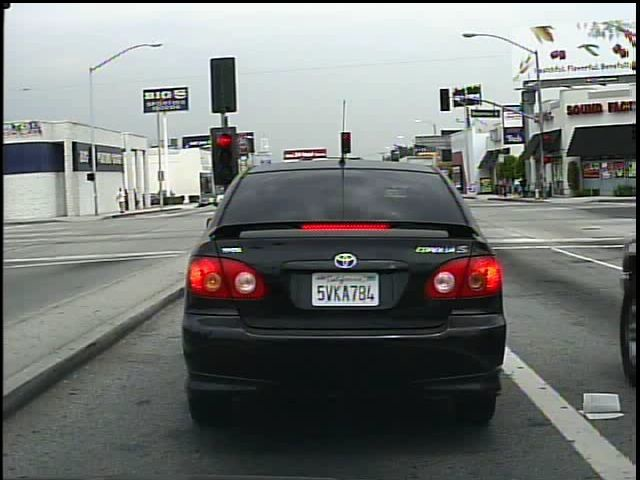person: (117, 186, 130, 217), (518, 173, 530, 199)
